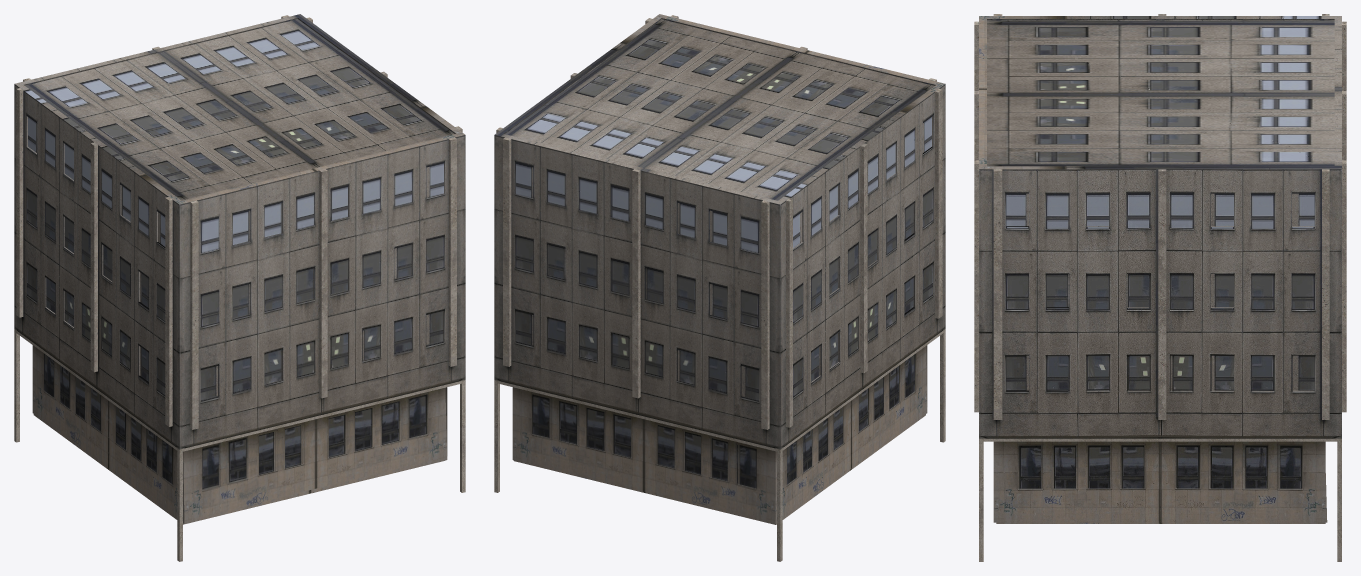
File: BagSS01base_200.fbx
The picture shows the model from 3 angles, left to right: view 1: azimuth 30°, elevation 25°; view 2: azimuth 150°, elevation 25°; view 3: azimuth 270°, elevation 25°; orthographic projection. The views are drawn at different scales.
Parts seen in each view (by area): view 1: b_A200, boxA200, b_BxB200, boxB_B200; view 2: b_A200, boxA200, b_BxB200, boxB_B200; view 3: b_A200, boxA200, b_BxB200, boxB_B200.
Boxes of the visible parts, <box> form: b_A200: <box>14,14,465,523</box>; boxA200: <box>25,19,454,399</box>; b_BxB200: <box>14,15,465,561</box>; boxB_B200: <box>33,348,445,524</box>; b_A200: <box>494,14,945,523</box>; boxA200: <box>505,19,934,400</box>; b_BxB200: <box>494,15,945,561</box>; boxB_B200: <box>513,353,925,524</box>; b_A200: <box>979,16,1341,523</box>; boxA200: <box>987,20,1334,390</box>; b_BxB200: <box>974,14,1346,561</box>; boxB_B200: <box>996,441,1325,523</box>.
Bounding box in the file's own units: 17.99 × 20.93 × 17.98.
